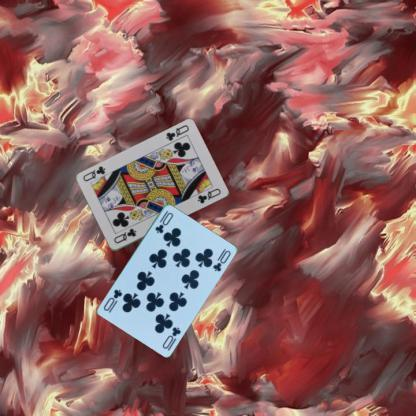10c: (159, 324, 182, 350), (152, 208, 174, 235)
Qc: (163, 122, 190, 142), (111, 226, 137, 245)
